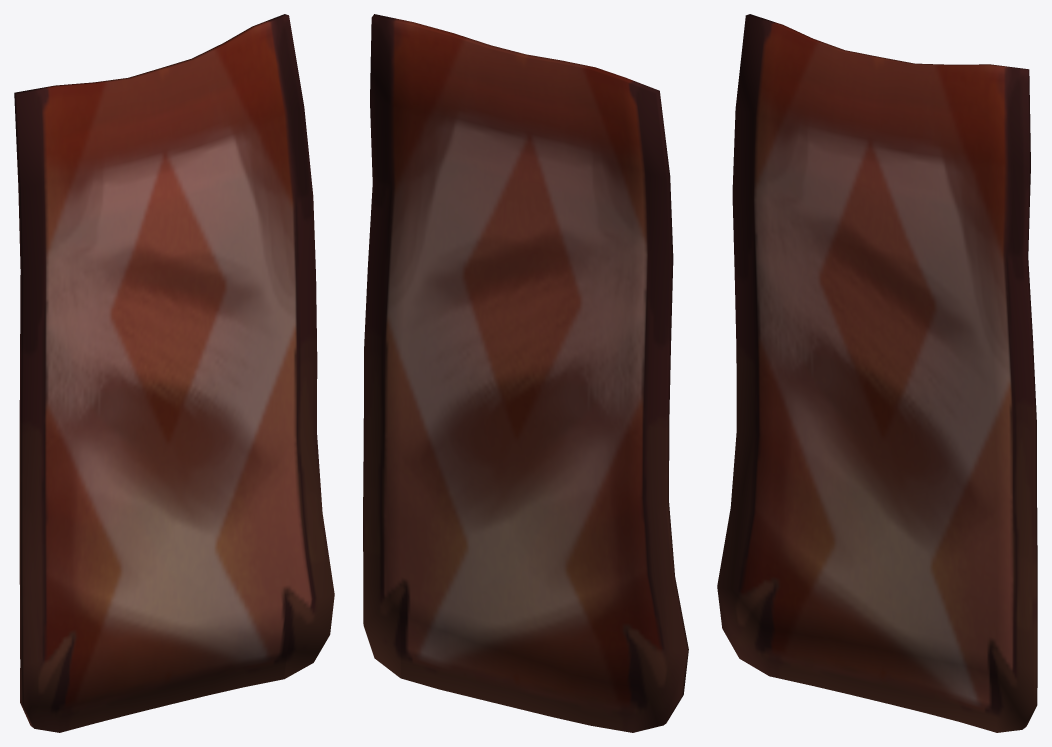
Rendered from Character_MC_top_Loin.glb.
The picture shows the model from 3 angles, left to right: view 1: azimuth 30°, elevation 25°; view 2: azimuth 150°, elevation 25°; view 3: azimuth 330°, elevation 25°; orthographic projection. The views are drawn at different scales.
Parts seen in each view (by area): view 1: Loin; view 2: Loin; view 3: Loin.
Part boxes in pixels (x1,y1,x2,y2): Loin: [14, 14, 334, 732]; Loin: [363, 14, 688, 732]; Loin: [717, 14, 1037, 732].
Size of the model in its own units: 1.04 by 2.07 by 0.1403.
Materials: 1 (1 with a texture image).
